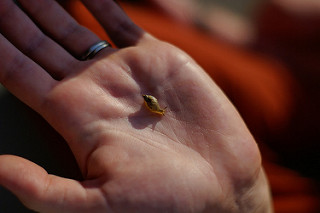palm: (78, 49, 247, 195)
